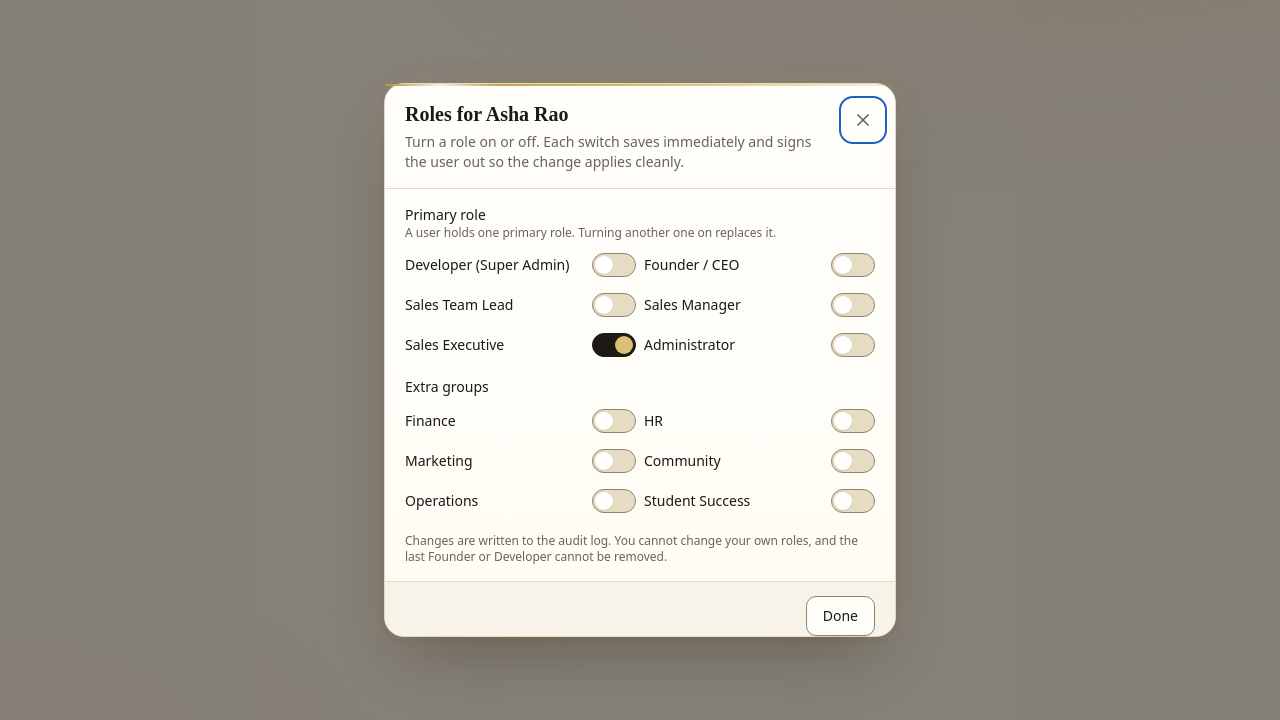
Test: Developer Panel role toggles › turning another primary role on replaces the current primary in the same request
The image size is (1280, 720).
Click the switch named "Sales Manager" next to "Sales Manager": (853, 305) [831,293,875,317]
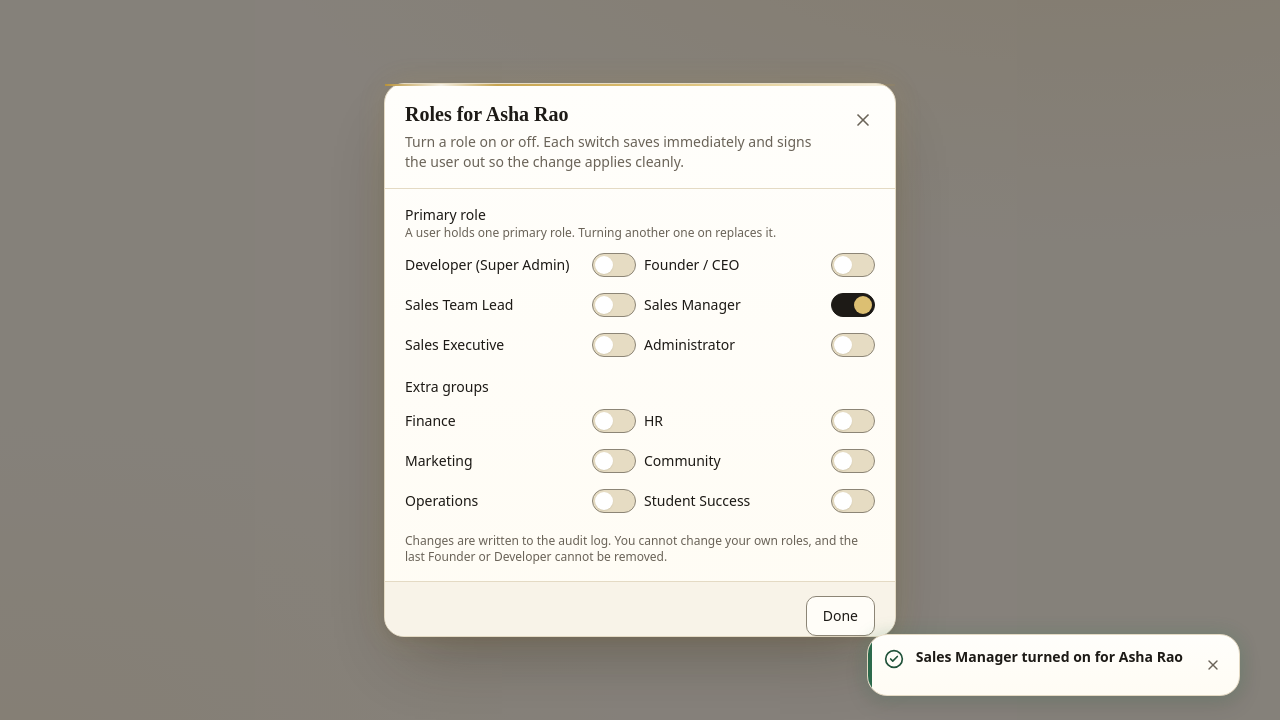
Now the switch named "Sales Executive" next to "Sales Executive" is not checked, box [592,333,636,357]
